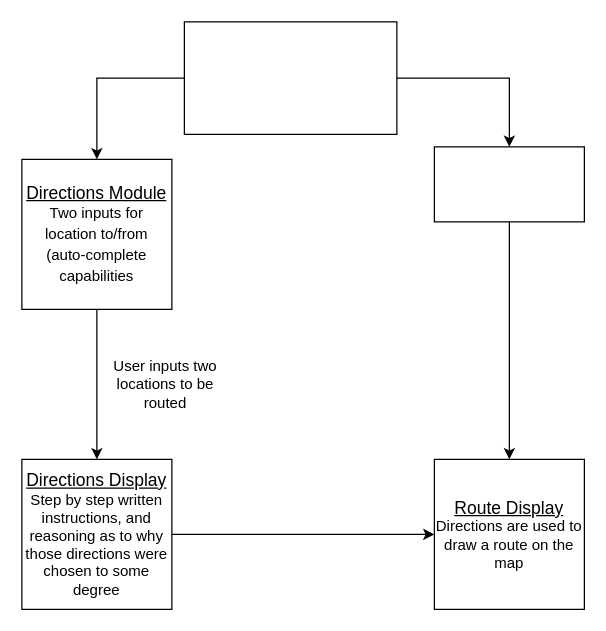
This 606x631 diagram has some shape labels left out. The box of each missing label's shape, as (x1, y1, x2, y2) in pixels:
Display Window Directions Module Map: (183, 21, 397, 134)
Map up-to-date street and building information: (433, 146, 584, 222)
